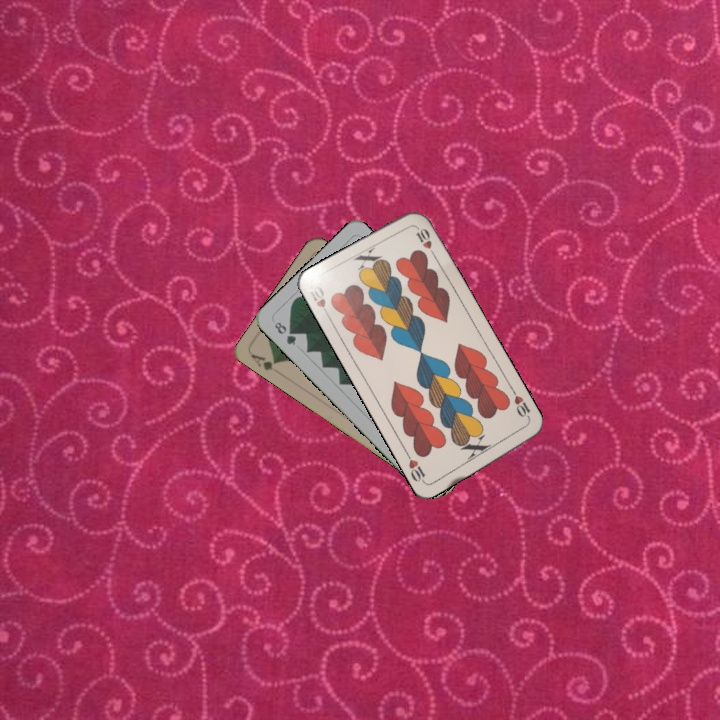G8: (270, 318, 299, 348)
GA: (247, 350, 281, 373)
H10: (304, 282, 332, 320), (510, 391, 533, 423)
